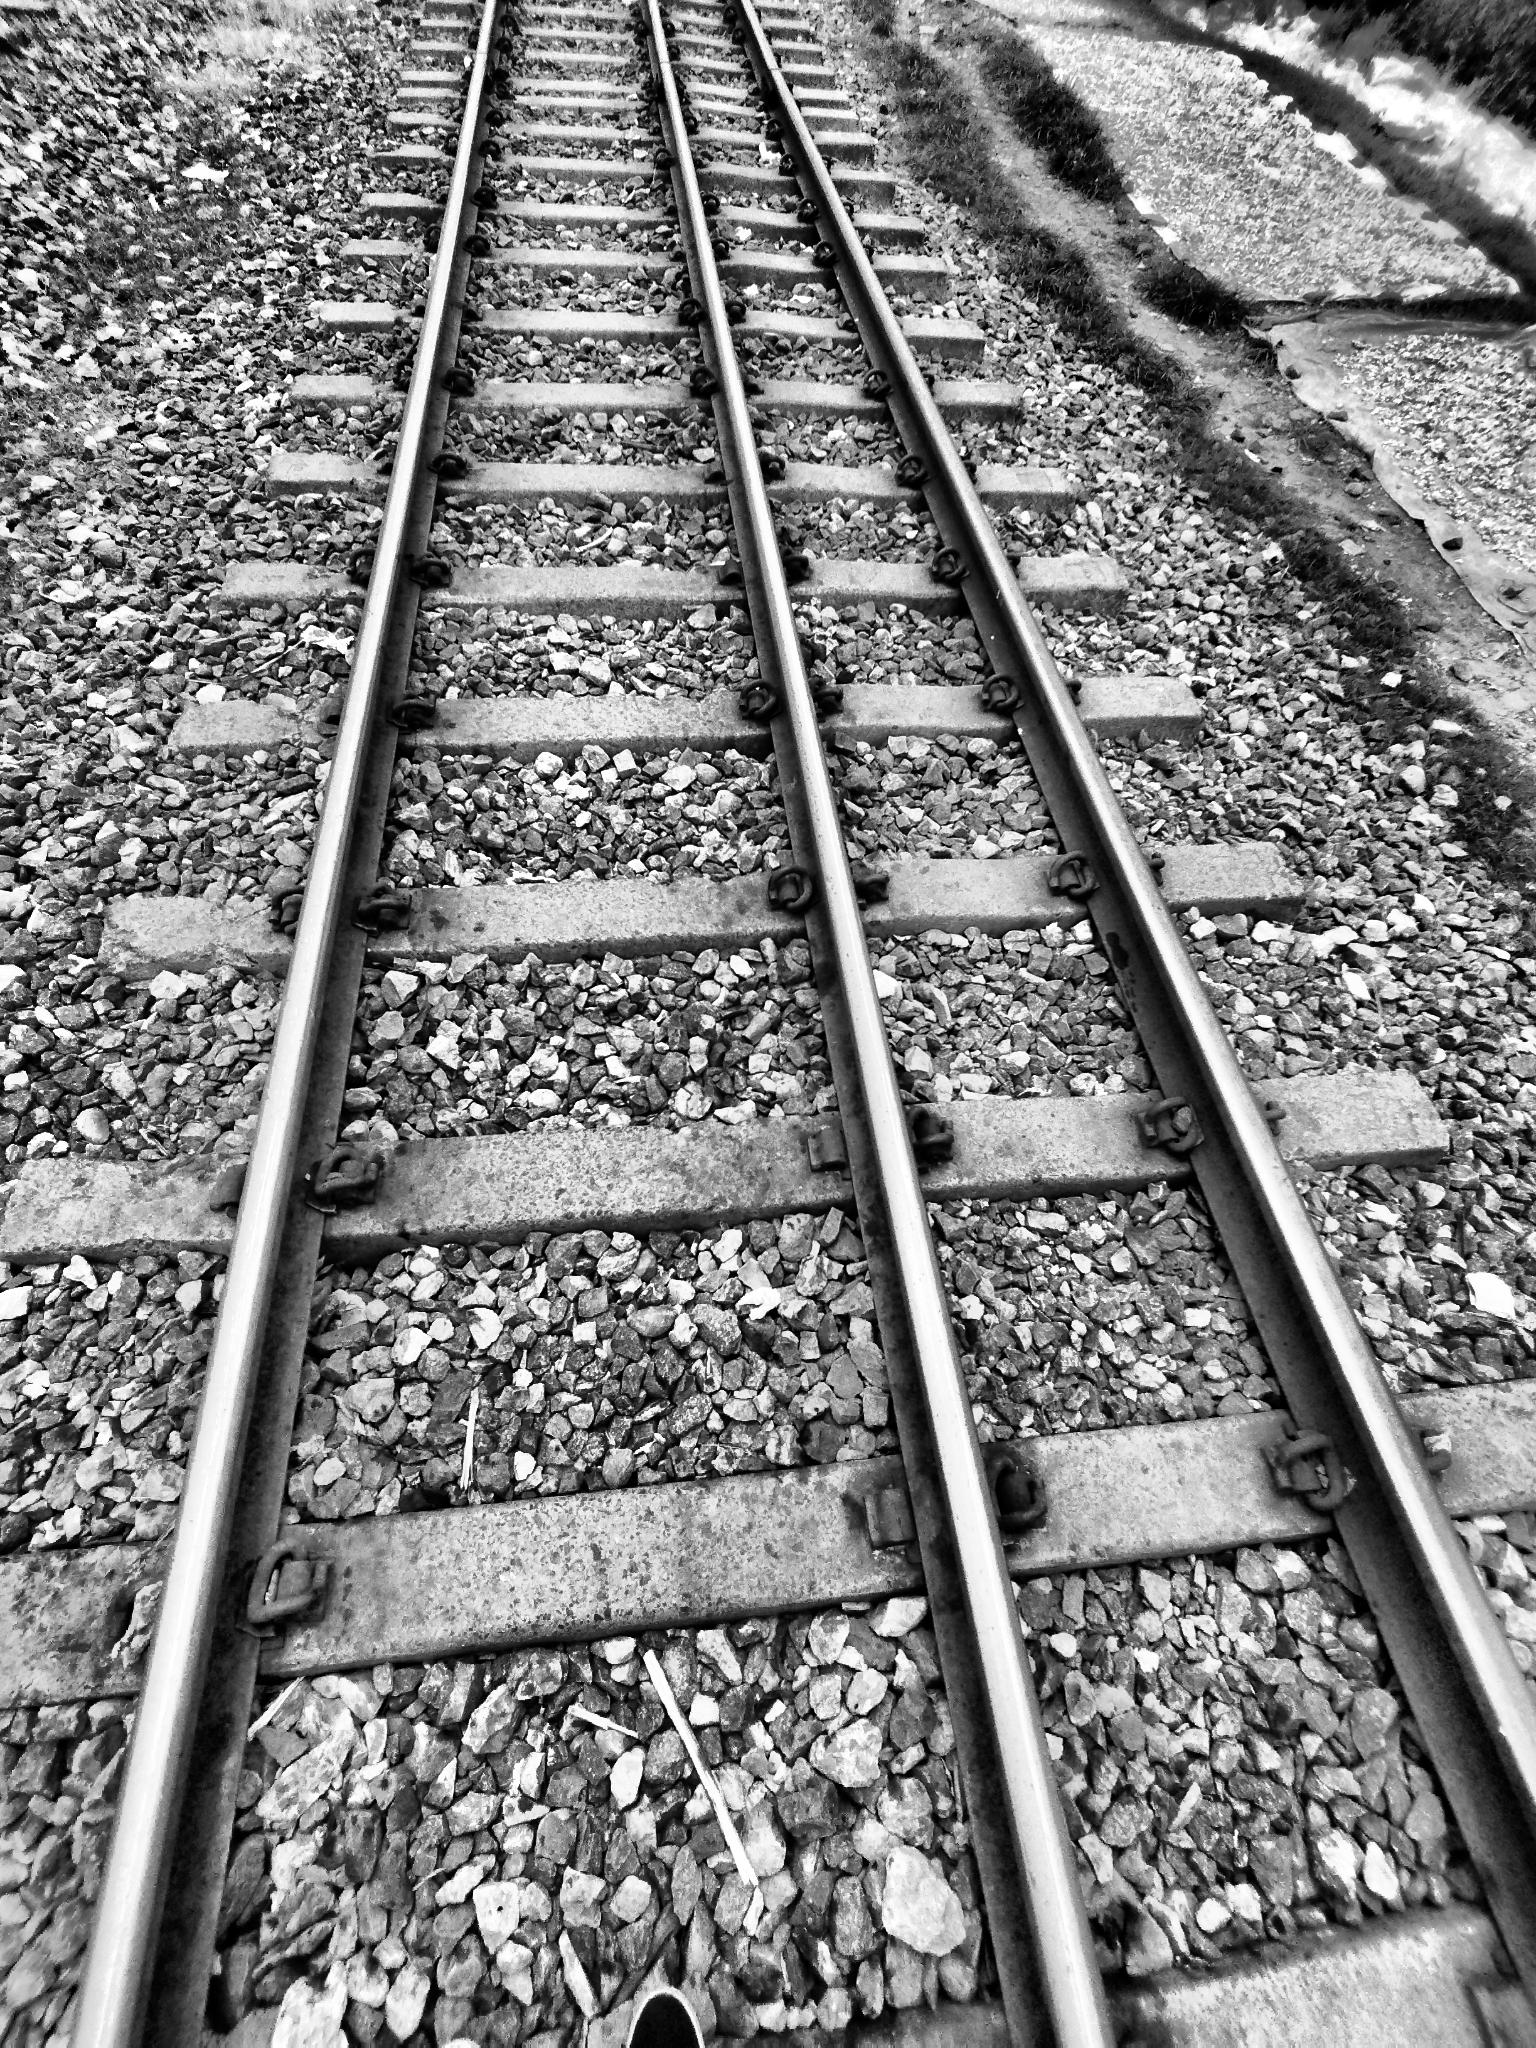Trash: (637, 1632, 765, 1914)
